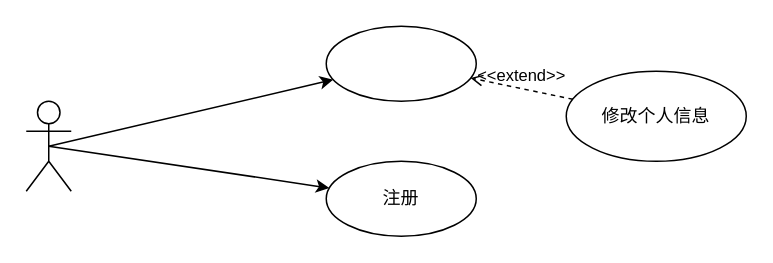
Image size: 773x263. Some labels were removed from this diagram. The centre of each missing label's shape, as x and y in pixels:
"用户" belongs at point (48, 145).
"登录" belongs at point (400, 63).
